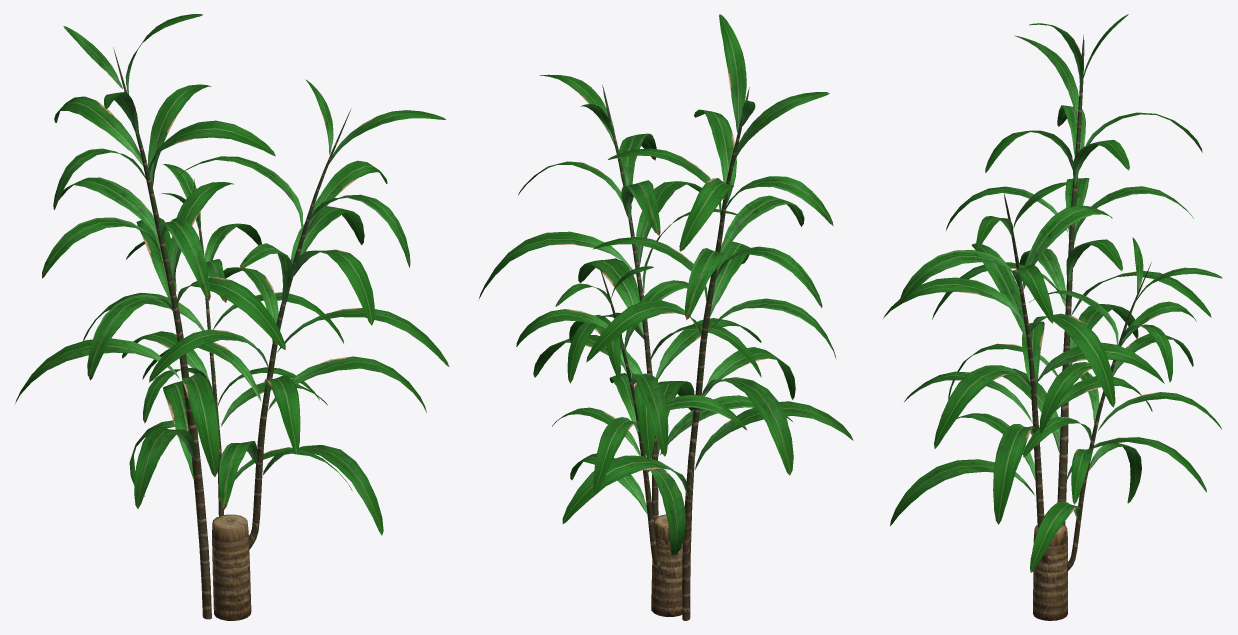
File: plnat.fbx
3 renders of one model, left to right at view 1: azimuth 30°, elevation 25°; view 2: azimuth 150°, elevation 25°; view 3: azimuth 270°, elevation 25°, orthographic. The views are drawn at different scales.
Visible parts, largest first — view 1: Yucca; view 2: Yucca; view 3: Yucca.
Part boxes in pixels (<box>): Yucca: <box>15,14,449,620</box>; Yucca: <box>479,14,853,620</box>; Yucca: <box>883,14,1222,620</box>.
Bounding box in the file's own units: 119 × 201 × 109.
